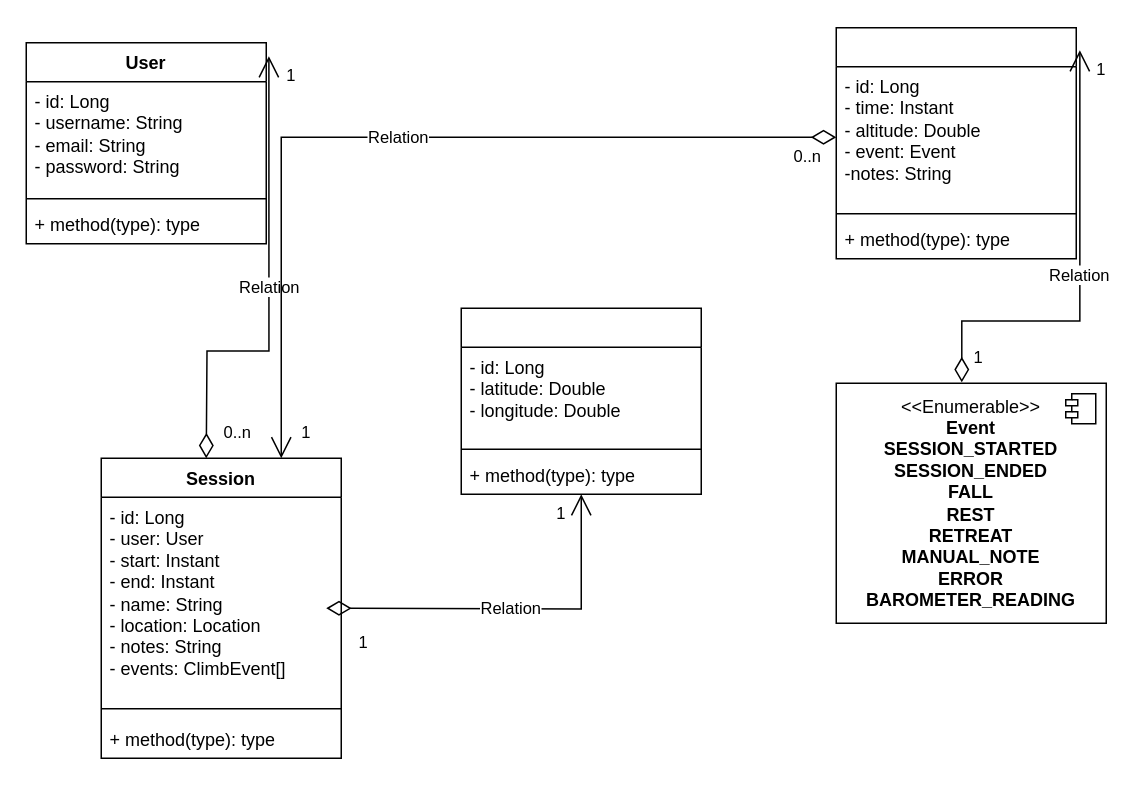
Some shapes in this 1136 by 789 pixel diagram are drawn without their labels. Here are the shapes that lost their labels. From the top down, the box of each, then its label:
(835, 26, 1076, 259): ClimbEvent
(460, 307, 701, 494): Location
